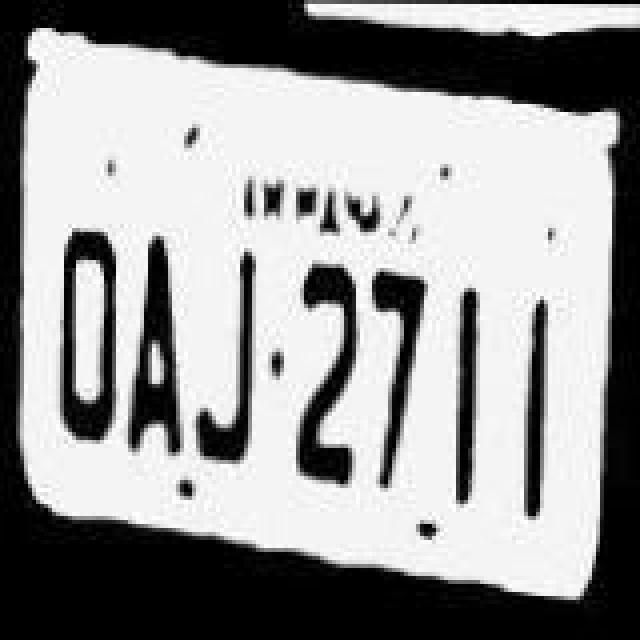1: (508, 296, 564, 560), (440, 276, 496, 536)
2: (284, 260, 364, 512)
7: (362, 266, 430, 506)
A: (120, 206, 192, 458)
J: (186, 240, 262, 468)
O: (44, 200, 124, 456)
